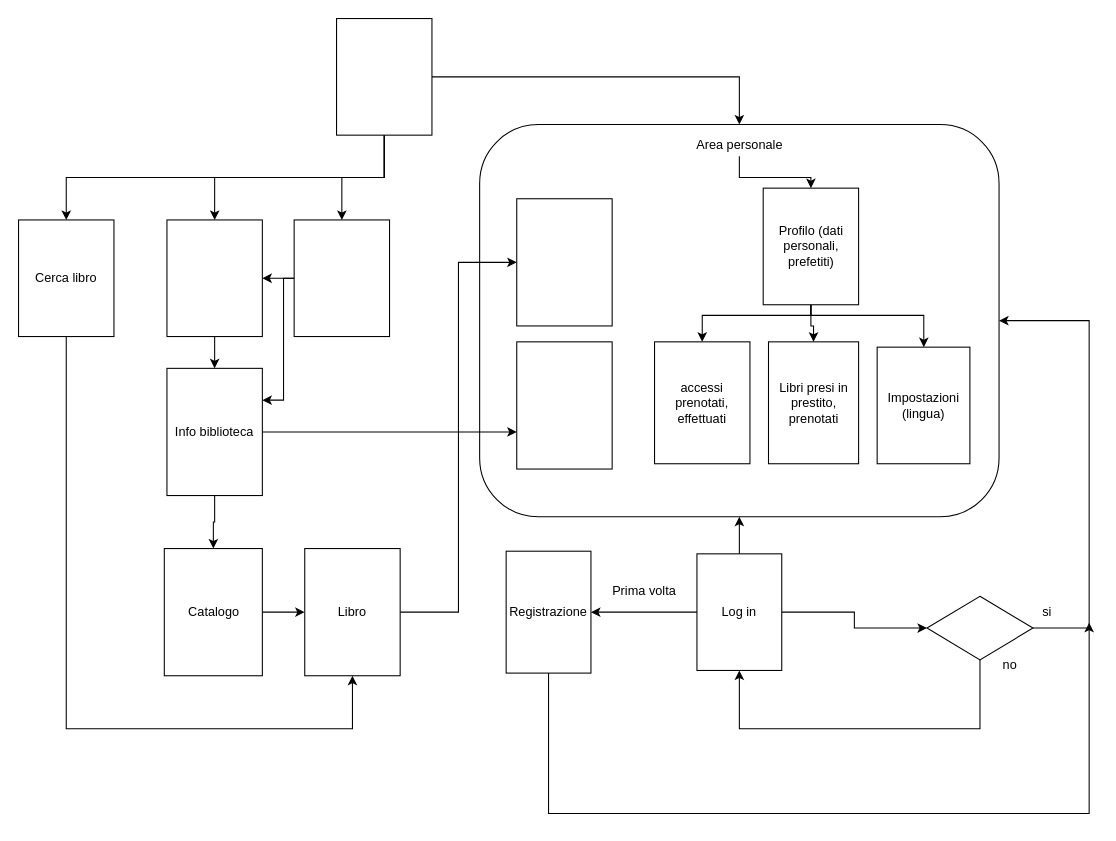
This 1116x841 diagram has some shape labels left out. The centre of each missing label's shape, as x and y in pixels:
Lista biblioteche: the point at 214,278
Mappa: the point at 341,278
Menù: the point at 383,76
Prenotazione accesso: the point at 564,405
Prenotazione libro: the point at 564,262
